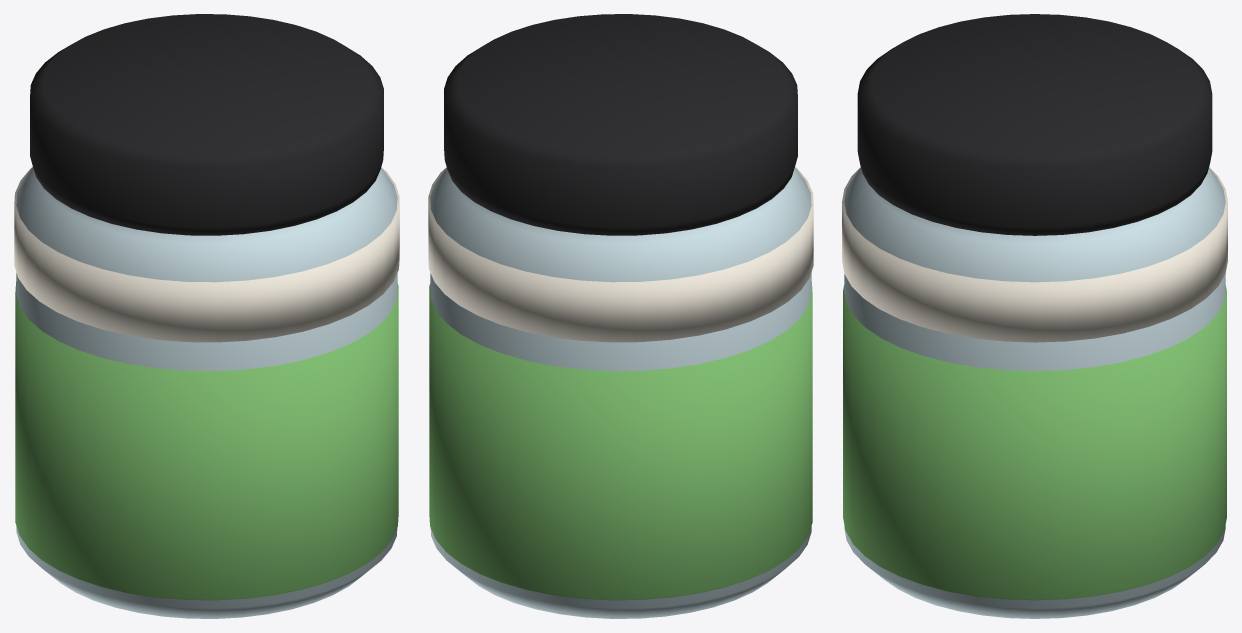
File: SM_GronnJar.glb
3 renders of one model, left to right at view 1: azimuth 30°, elevation 25°; view 2: azimuth 150°, elevation 25°; view 3: azimuth 270°, elevation 25°, orthographic.
Visible parts, largest first — view 1: SM_GronnJar; view 2: SM_GronnJar; view 3: SM_GronnJar.
Boxes of the visible parts, bbox=[...] form: SM_GronnJar: bbox=[14, 14, 399, 618]; SM_GronnJar: bbox=[428, 14, 813, 618]; SM_GronnJar: bbox=[842, 14, 1227, 618].
Size of the model in its own units: 0.0708 by 0.094 by 0.0708.
